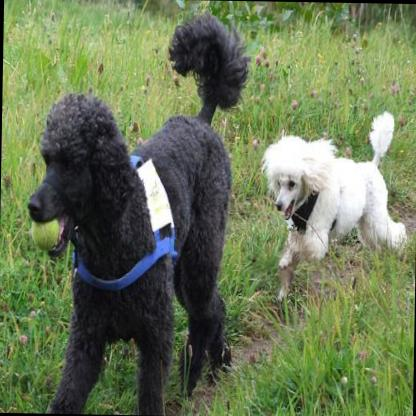toy_poodle: (20, 8, 250, 414), (257, 106, 408, 300)
